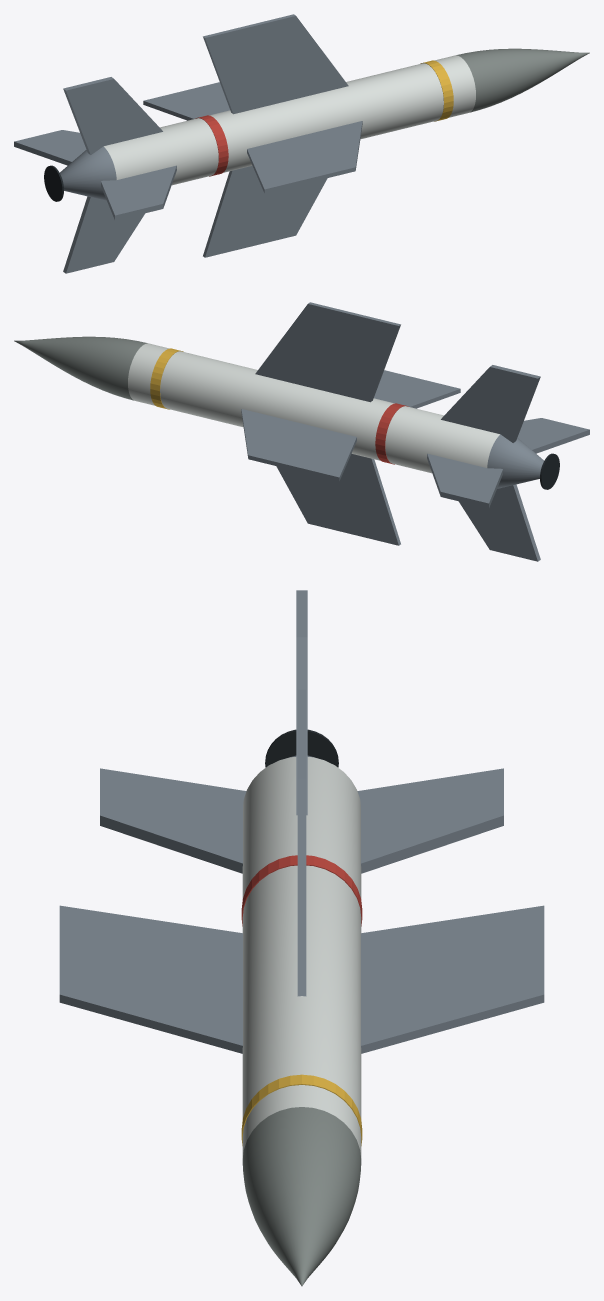
Rendered from agm_114_hellfire.glb.
The picture shows the model from 3 angles, top to bottom: view 1: azimuth 30°, elevation 25°; view 2: azimuth 150°, elevation 25°; view 3: azimuth 270°, elevation 25°; orthographic projection. The views are drawn at different scales.
Parts seen in each view (by area): view 1: agm_114_hellfire; view 2: agm_114_hellfire; view 3: agm_114_hellfire.
Boxes of the visible parts, x1,y1,x2,y2 form: agm_114_hellfire: (14, 14, 589, 273); agm_114_hellfire: (14, 302, 589, 561); agm_114_hellfire: (59, 590, 544, 1286).
Bounding box in the file's own units: 10 × 3.91 × 3.91.
